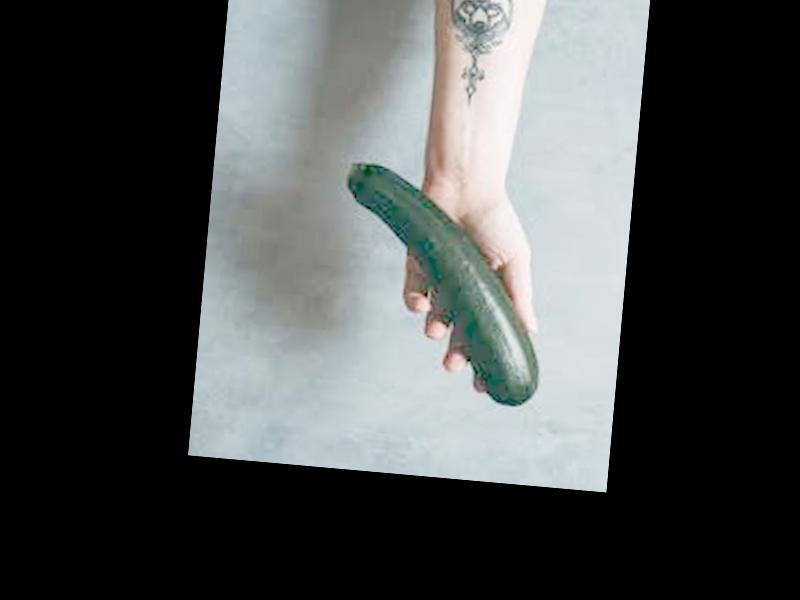Cucumber: (329, 163, 555, 408)
